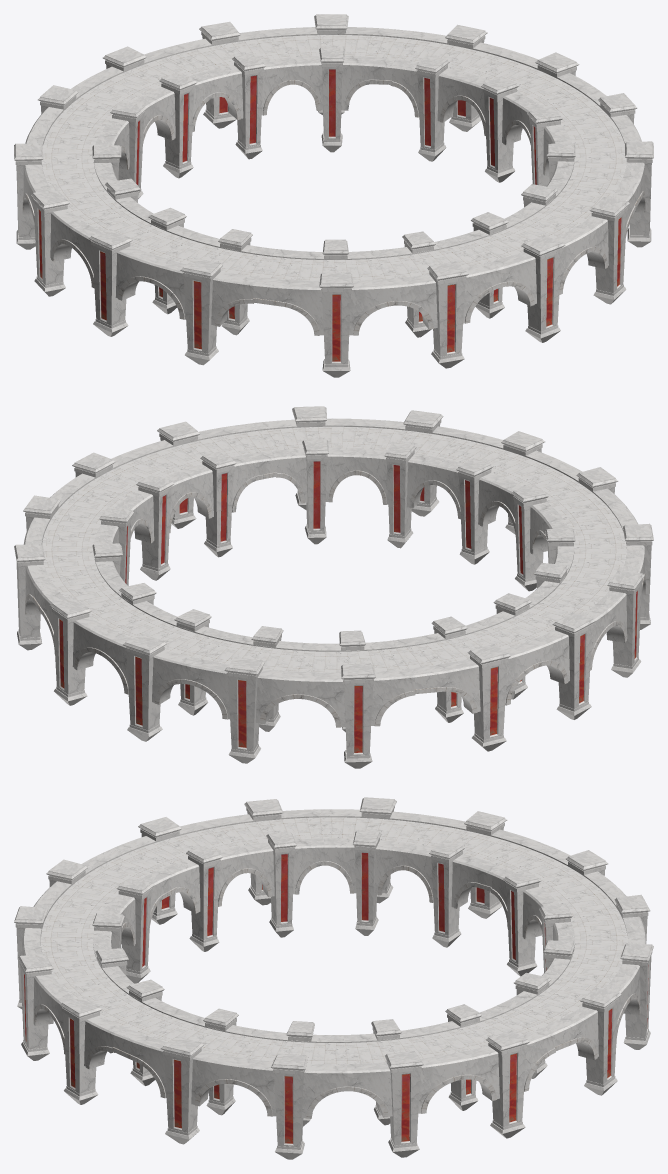
Rendered from BgMD_Ruins_Area3_Set.fbx.
The picture shows the model from 3 angles, top to bottom: view 1: azimuth 30°, elevation 25°; view 2: azimuth 150°, elevation 25°; view 3: azimuth 270°, elevation 25°; orthographic projection.
Parts seen in each view (by area): view 1: SM_Road_road (×4), SM_Deco_decoL4 (×4), SM_Deco_decoL2 (×4), SM_Deco_decoL7 (×4), SM_Deco_decoL8 (×4), SM_Deco_decoL5 (×4), SM_Deco_decoL3 (×4), SM_Deco_decoL6 (×4), SM_Deco_decoL9 (×3); view 2: SM_Road_road (×4), SM_Deco_decoL8 (×4), SM_Deco_decoL2 (×4), SM_Deco_decoL7 (×4), SM_Deco_decoL6 (×4), SM_Deco_decoL4 (×4), SM_Deco_decoL9 (×4), SM_Deco_decoL5 (×4), SM_Deco_decoL3 (×3); view 3: SM_Road_road (×4), SM_Deco_decoL8 (×4), SM_Deco_decoL4 (×4), SM_Deco_decoL7 (×4), SM_Deco_decoL3 (×4), SM_Deco_decoL2 (×4), SM_Deco_decoL9 (×4), SM_Deco_decoL5 (×4), SM_Deco_decoL6 (×4).
Boxes of the visible parts, bbox=[...] form: SM_Road_road (×4): bbox=[22, 27, 645, 335]; SM_Deco_decoL4 (×4): bbox=[38, 24, 630, 365]; SM_Deco_decoL2 (×4): bbox=[31, 21, 637, 368]; SM_Deco_decoL7 (×4): bbox=[88, 46, 579, 342]; SM_Deco_decoL8 (×4): bbox=[14, 14, 653, 377]; SM_Deco_decoL5 (×4): bbox=[148, 71, 518, 318]; SM_Deco_decoL3 (×4): bbox=[110, 55, 557, 335]; SM_Deco_decoL6 (×4): bbox=[105, 53, 562, 337]; SM_Deco_decoL9 (×3): bbox=[92, 47, 575, 180]; SM_Road_road (×4): bbox=[23, 418, 645, 727]; SM_Deco_decoL8 (×4): bbox=[49, 421, 618, 751]; SM_Deco_decoL2 (×4): bbox=[72, 431, 595, 741]; SM_Deco_decoL7 (×4): bbox=[23, 410, 644, 763]; SM_Deco_decoL6 (×4): bbox=[136, 458, 531, 715]; SM_Deco_decoL4 (×4): bbox=[14, 406, 653, 768]; SM_Deco_decoL9 (×4): bbox=[119, 451, 548, 722]; SM_Deco_decoL5 (×4): bbox=[99, 442, 568, 731]; SM_Deco_decoL3 (×3): bbox=[92, 439, 575, 575]; SM_Road_road (×4): bbox=[22, 809, 645, 1118]; SM_Deco_decoL8 (×4): bbox=[46, 811, 621, 1144]; SM_Deco_decoL4 (×4): bbox=[60, 817, 608, 1138]; SM_Deco_decoL7 (×4): bbox=[18, 799, 650, 1157]; SM_Deco_decoL3 (×4): bbox=[126, 845, 540, 1110]; SM_Deco_decoL2 (×4): bbox=[14, 797, 653, 1159]; SM_Deco_decoL9 (×4): bbox=[116, 841, 550, 1115]; SM_Deco_decoL5 (×4): bbox=[95, 831, 572, 1125]; SM_Deco_decoL6 (×4): bbox=[92, 830, 575, 1126].
Size of the model in its own units: 4477 by 762 by 4477.
